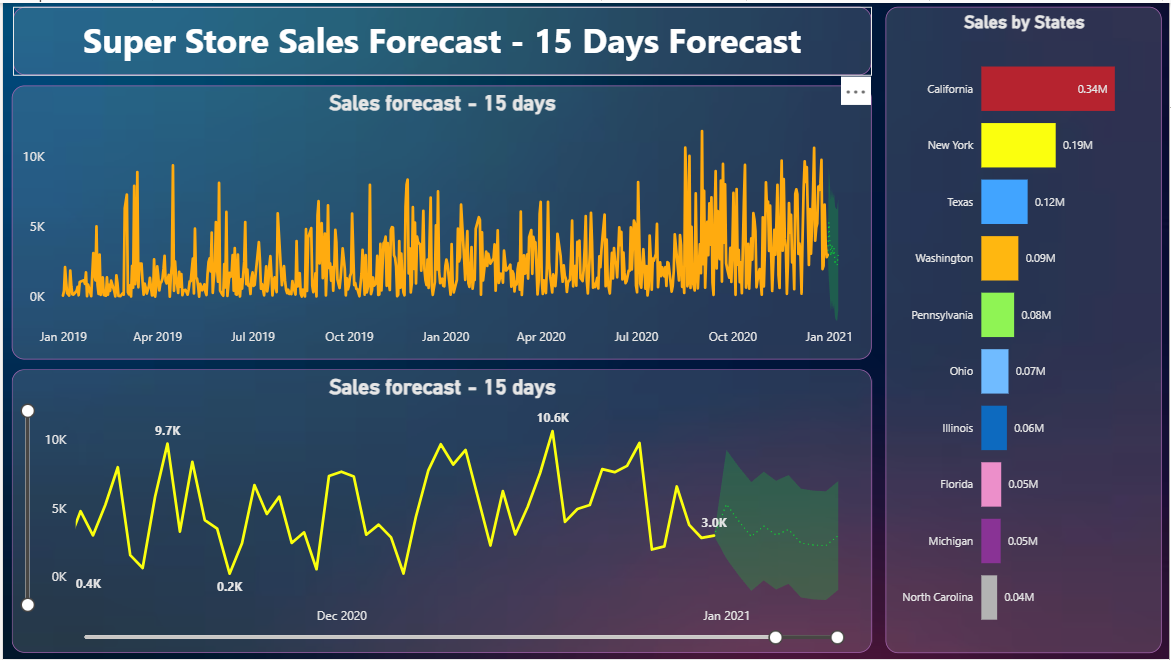

The dashboard page shown, as its layout file describes it:
{"tool":"powerbi","page":{"name":"Sales Forecast","canvas":[1280,720],"ordinal":1},"visuals":[{"type":"lineChart","title":"Sales forecast - 15 days","fields":{"Y":["Sum(SuperStore_Sales_Dataset.Sales)"],"Category":["SuperStore_Sales_Dataset.Order Date"]},"box":[9.6,90.6,944.1,300.5],"z":0},{"type":"lineChart","title":"Sales forecast - 15 days","fields":{"Y":["Sum(SuperStore_Sales_Dataset.Sales)"],"Category":["SuperStore_Sales_Dataset.Order Date"]},"box":[9.6,402.1,944.1,311.5],"z":1000},{"type":"clusteredBarChart","title":"Sales by States","fields":{"Category":["SuperStore_Sales_Dataset.State","SuperStore_Sales_Dataset.Category"],"Y":["Sum(SuperStore_Sales_Dataset.Sales)"]},"box":[968.8,4.1,303.3,709.4],"z":2000},{"type":"textbox","box":[11,4.1,942.7,75.5],"z":3000}]}

Visuals, with their boxes in screenshot pixels (x1, y1, x2, y2), scaled from the page's 1280x720 canvas onto the 1171x660 screenshot:
"Sales forecast - 15 days" lineChart: (9, 83, 872, 359)
"Sales forecast - 15 days" lineChart: (9, 369, 872, 654)
"Sales by States" clusteredBarChart: (886, 4, 1164, 654)
textbox: (10, 4, 872, 73)
